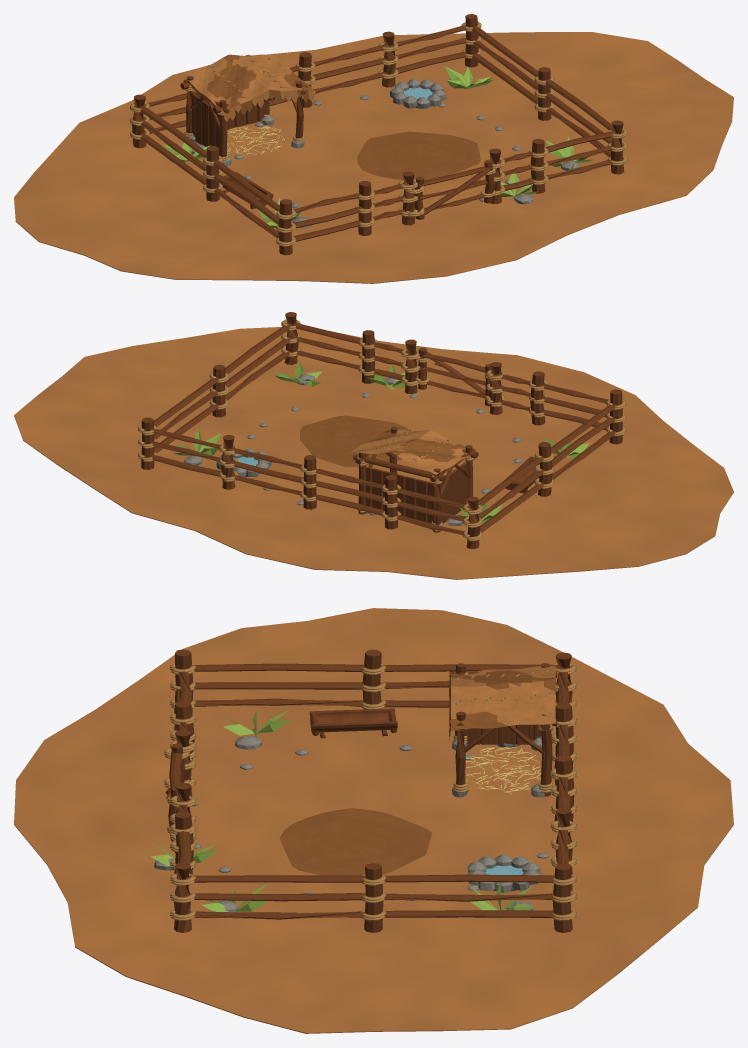
Rendered from boar_pen.glb.
The picture shows the model from 3 angles, top to bottom: view 1: azimuth 30°, elevation 25°; view 2: azimuth 150°, elevation 25°; view 3: azimuth 270°, elevation 25°; orthographic projection. The views are drawn at different scales.
Visible parts, largest first — view 1: Sandy island, Side fence rail, Fence log post, Trampled earth patch, Front fence rail, Fence rope binding, Rear fence rail, Hide roof, Broad ground leaves, Hide roof.001, Water basin rim stones, Shelter side wood wall (+7 smaller); view 2: Sandy island, Fence log post, Side fence rail, Rear fence rail, Fence rope binding, Front fence rail, Trampled earth patch, Hide roof, Shelter rear wood wall, Broad ground leaves, Hide roof.001, Shelter side wood wall (+5 smaller); view 3: Sandy island, Side fence rail, Trampled earth patch, Fence log post, Fence rope binding, Hide roof, Broad ground leaves, Hollow wooden feeding trough, Hide roof.001, Rear fence rail, Water basin rim stones, Timber upright (+4 smaller).
Boxes of the visible parts, box(x1,y1,x2,y2) form: Sandy island: box(14, 32, 733, 283); Side fence rail: box(136, 26, 612, 238); Fence log post: box(132, 14, 624, 255); Trampled earth patch: box(357, 131, 480, 180); Front fence rail: box(290, 131, 619, 241); Fence rope binding: box(130, 21, 627, 246); Rear fence rail: box(143, 25, 467, 133); Hide roof: box(184, 54, 301, 112); Broad ground leaves: box(164, 66, 594, 231); Hide roof.001: box(207, 54, 313, 108); Water basin rim stones: box(390, 78, 446, 108); Shelter side wood wall: box(191, 92, 219, 154); Sandy island: box(14, 327, 733, 579); Fence log post: box(141, 312, 622, 549); Side fence rail: box(153, 323, 615, 532); Rear fence rail: box(149, 428, 470, 535); Fence rope binding: box(138, 319, 625, 541); Front fence rail: box(292, 323, 609, 430); Trampled earth patch: box(300, 415, 409, 466); Hide roof: box(348, 429, 468, 474); Shelter rear wood wall: box(365, 466, 434, 522); Broad ground leaves: box(173, 360, 589, 523); Hide roof.001: box(366, 429, 465, 461); Shelter side wood wall: box(433, 462, 467, 529); Sandy island: box(14, 608, 733, 1033); Side fence rail: box(183, 663, 560, 919); Trampled earth patch: box(279, 808, 431, 875); Fence log post: box(174, 649, 574, 932); Fence rope binding: box(170, 662, 576, 920); Hide roof: box(451, 665, 555, 725); Broad ground leaves: box(151, 710, 534, 921); Hollow wooden feeding trough: box(309, 708, 397, 732); Hide roof.001: box(451, 670, 555, 730); Rear fence rail: box(555, 667, 572, 902); Water basin rim stones: box(467, 854, 540, 892); Timber upright: box(455, 663, 552, 796).
Bounding box in the file's own units: 17.9 × 1.92 × 12.81.
Materials: 8 (5 with a texture image).
